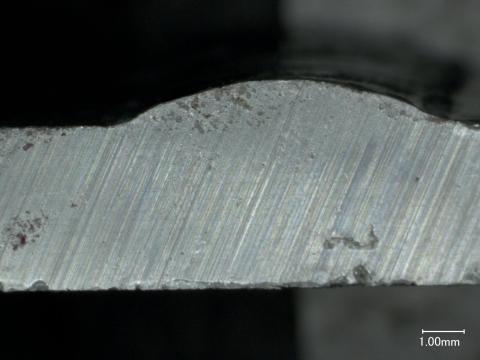test: (122, 79, 448, 125)
